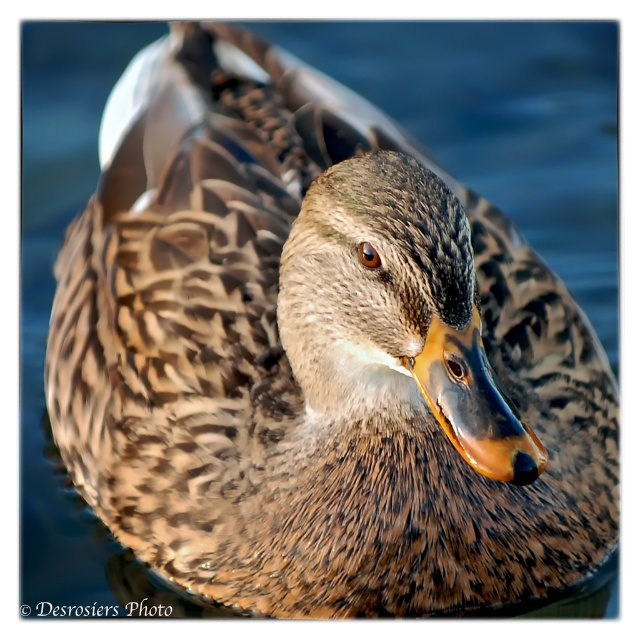Goose: (43, 22, 619, 617)
